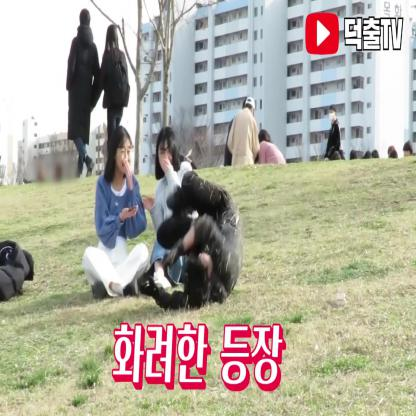Fall_Down: (136, 166, 247, 316)
